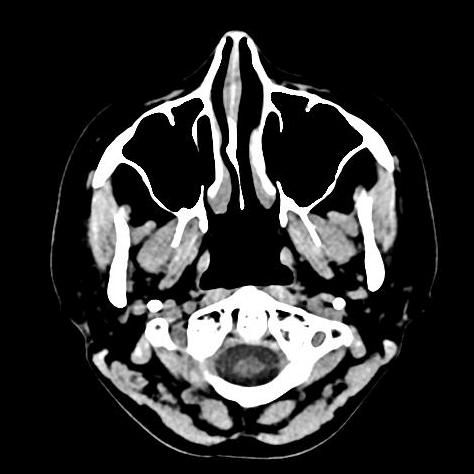Normal_Brain: (1, 20, 445, 474)
